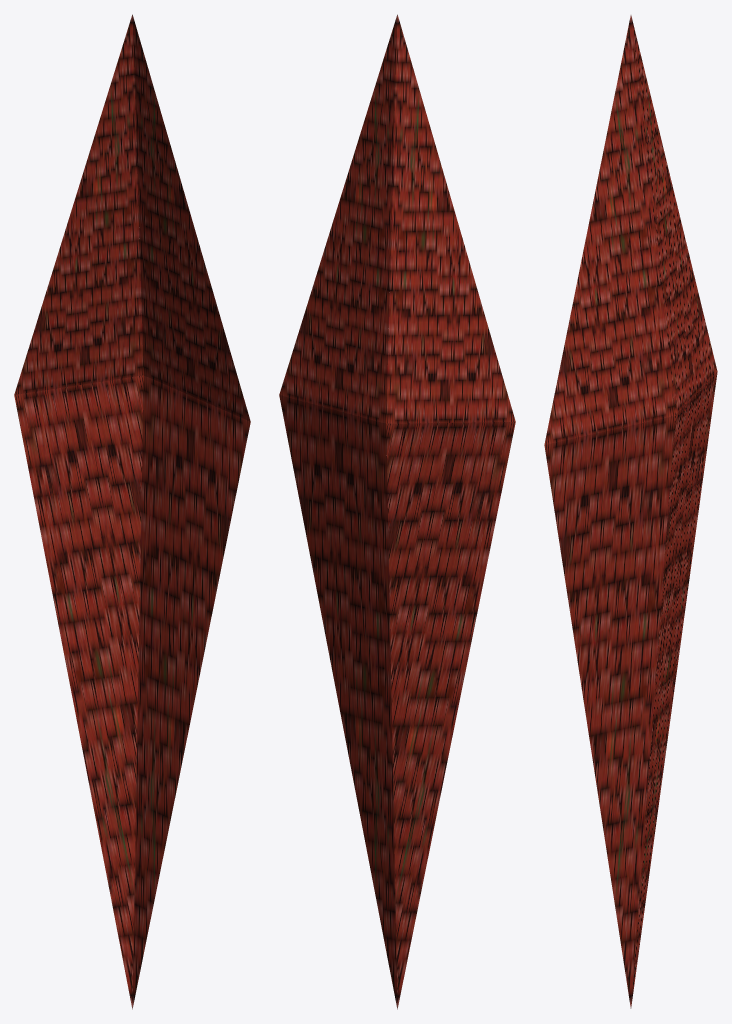
Rendered from Eckverschluß [ZiegelKlein]_323.glb.
3 renders of one model, left to right at view 1: azimuth 30°, elevation 25°; view 2: azimuth 210°, elevation 25°; view 3: azimuth 270°, elevation 25°, orthographic.
Visible parts, largest first — view 1: pPlaneShape11, pPlaneShape10, pPlaneShape8, pPlaneShape9; view 2: pPlaneShape11, pPlaneShape10, pPlaneShape8, pPlaneShape9; view 3: pPlaneShape10, pPlaneShape9, pPlaneShape11, pPlaneShape8.
Boxes of the visible parts, x1=… form: pPlaneShape11: x1=14, y1=375, x2=143, y2=1009; pPlaneShape10: x1=132, y1=375, x2=250, y2=1007; pPlaneShape8: x1=14, y1=14, x2=143, y2=394; pPlaneShape9: x1=132, y1=15, x2=250, y2=421; pPlaneShape11: x1=386, y1=421, x2=515, y2=1009; pPlaneShape10: x1=279, y1=395, x2=397, y2=1007; pPlaneShape8: x1=386, y1=14, x2=515, y2=423; pPlaneShape9: x1=279, y1=15, x2=397, y2=423; pPlaneShape10: x1=544, y1=416, x2=674, y2=1008; pPlaneShape9: x1=544, y1=15, x2=674, y2=444; pPlaneShape11: x1=631, y1=372, x2=717, y2=1008; pPlaneShape8: x1=631, y1=15, x2=717, y2=415.
Size of the model in its own units: 0.0549 by 0.3486 by 0.0549.
4 materials, 4 textured.
